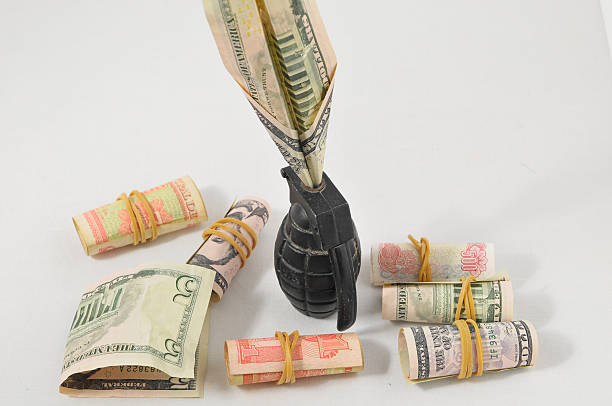e1: (272, 162, 364, 333)
